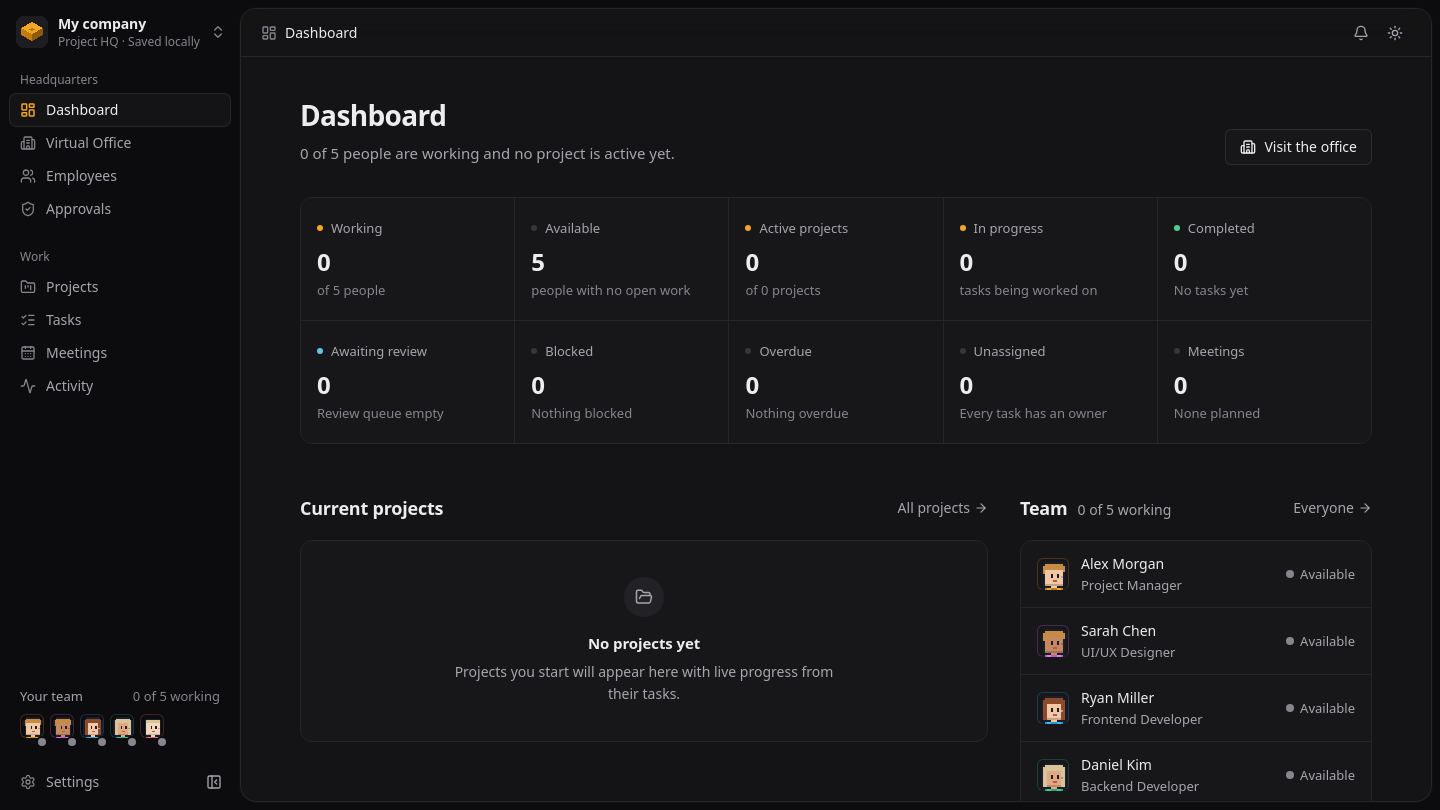
application shell › updates the highlight and title when navigating
What coordinates should you click on to do the following:
click the link "Employees"
I would click on:
 (68, 176)
Its box is x1=20 y1=166 x2=117 y2=185.
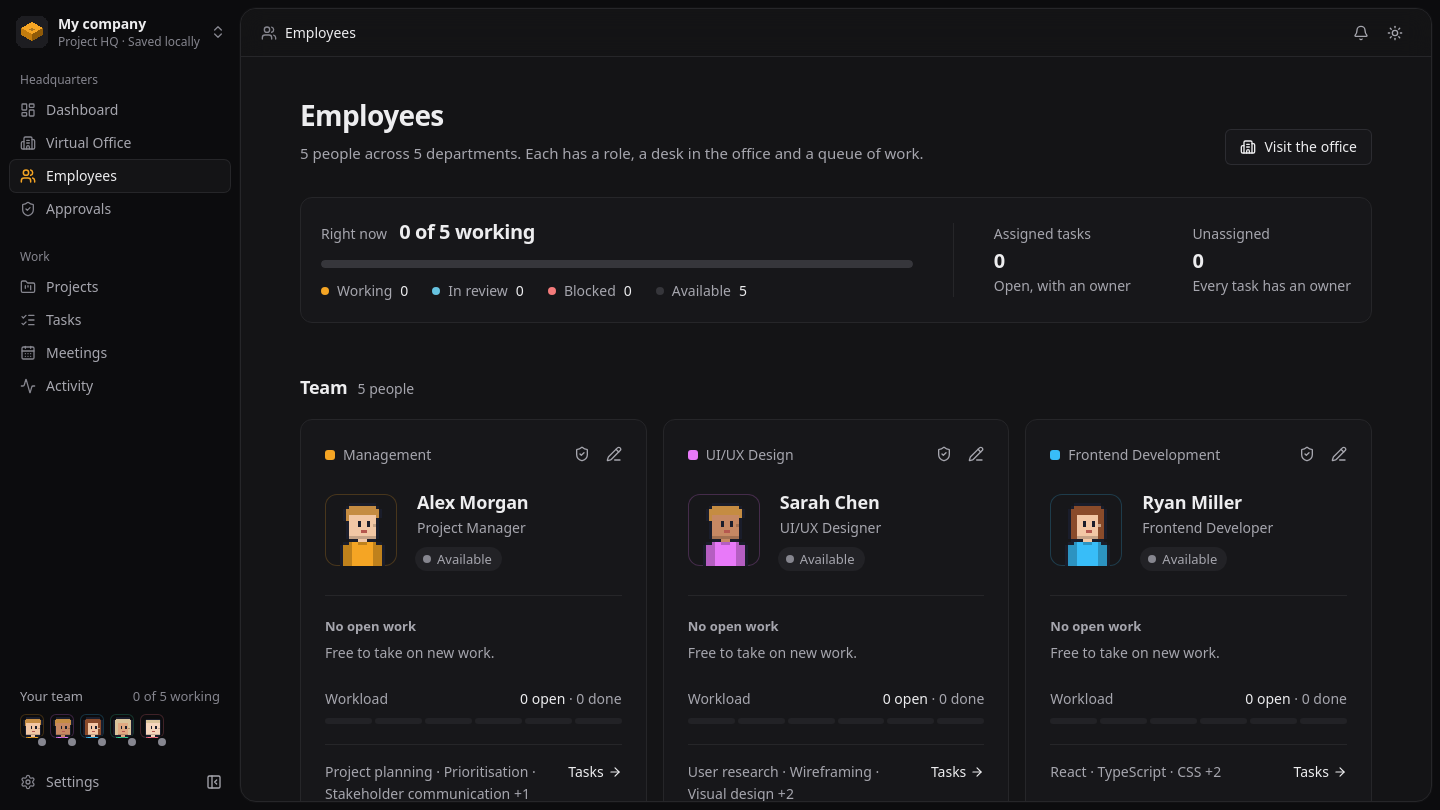
Now the heading "Employees" is shown, box x1=300 y1=96 x2=444 y2=134
